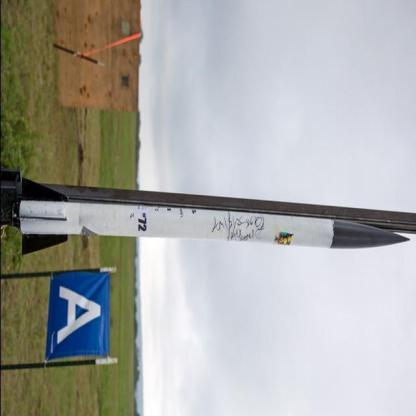MIL_TBM: (18, 204, 409, 247)
